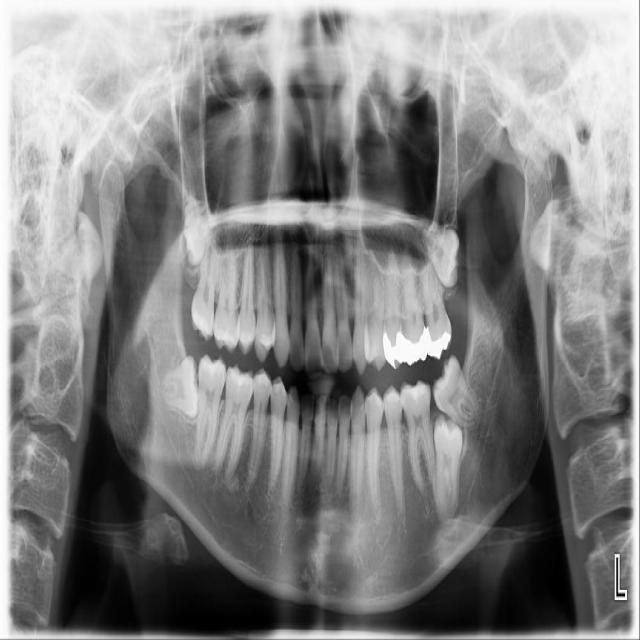3M ESPE Implant: (167, 195, 220, 265)
52: (222, 362, 257, 412), (424, 305, 453, 362), (212, 304, 242, 354), (190, 286, 215, 342), (253, 312, 277, 365), (401, 319, 427, 367), (383, 320, 403, 371), (363, 387, 387, 428), (251, 366, 274, 408), (236, 309, 256, 355), (382, 384, 404, 425), (269, 375, 289, 414)
73: (554, 609, 558, 612)
BioHorizons Implant: (415, 230, 456, 363)
BioLife Implant: (415, 208, 476, 292)
Biomet 3i Implant: (419, 352, 485, 437)
Blue Sky Bio Implant: (433, 413, 463, 521)
Caries: (188, 210, 224, 342)
Implant: (192, 352, 228, 469)
Keystone Dental Implant: (158, 355, 202, 421)
